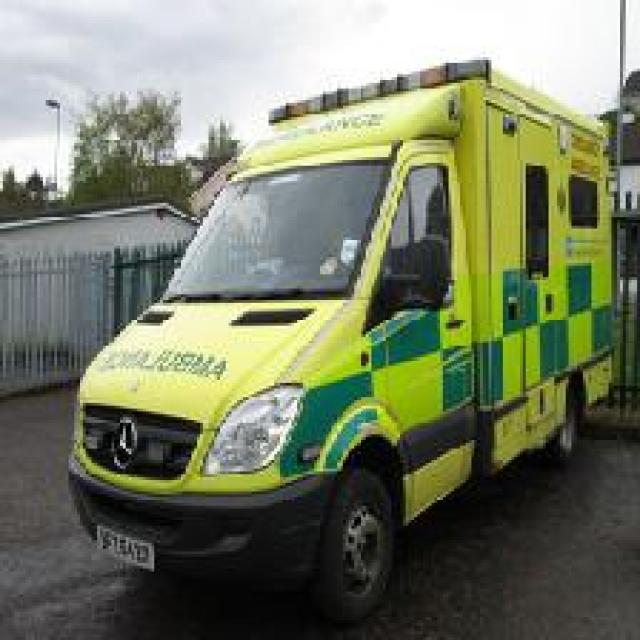emergency: (64, 57, 622, 625)
